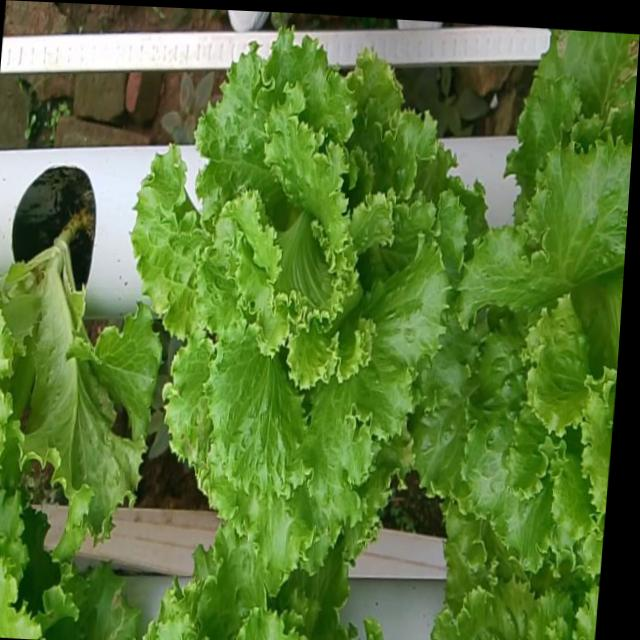Mature: (125, 32, 464, 574), (411, 129, 633, 569)
